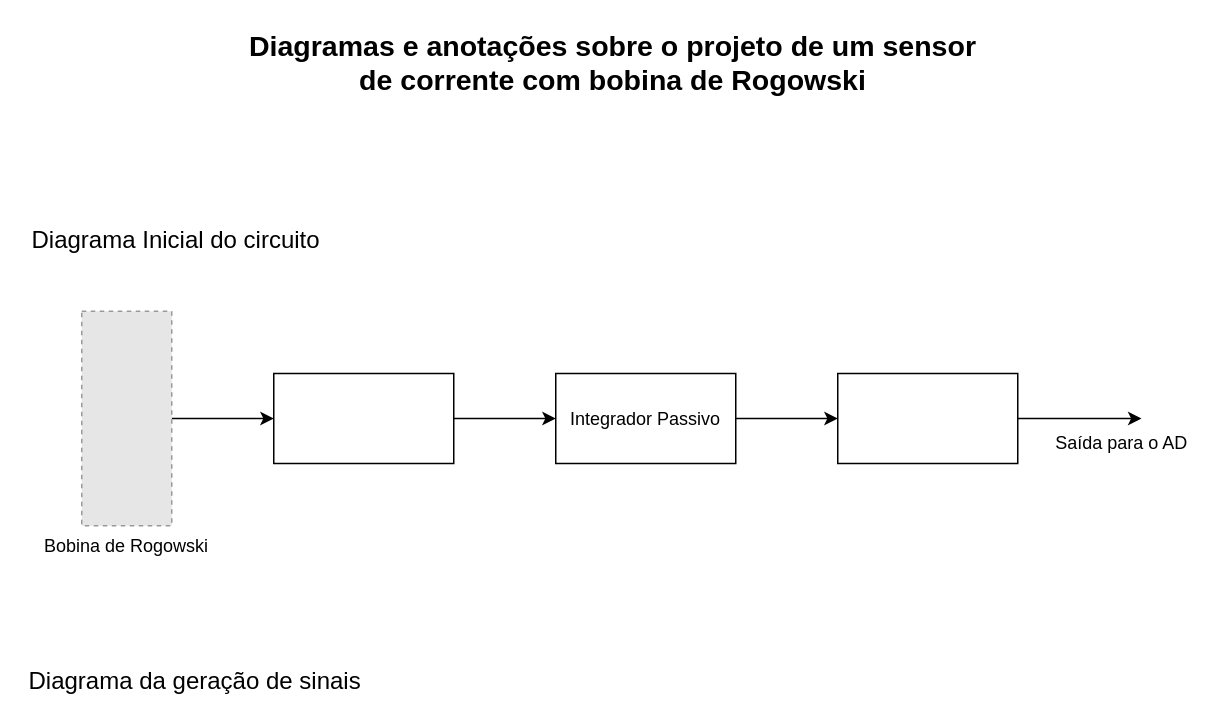
This 1212x720 diagram has some shape labels left out. Grey dashed boxes stand in for pictures. Each missing label, with the box of its shape:
Amplificador de Instrumentação: (272, 372, 454, 464)
Filtro Anti-aliasing: (836, 372, 1018, 464)
